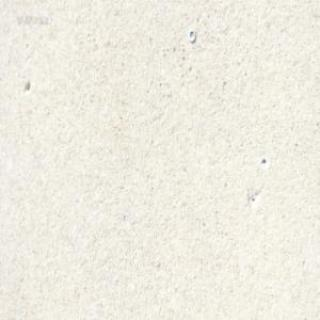Washertrack_idkeyframe: (187, 28, 195, 42)
